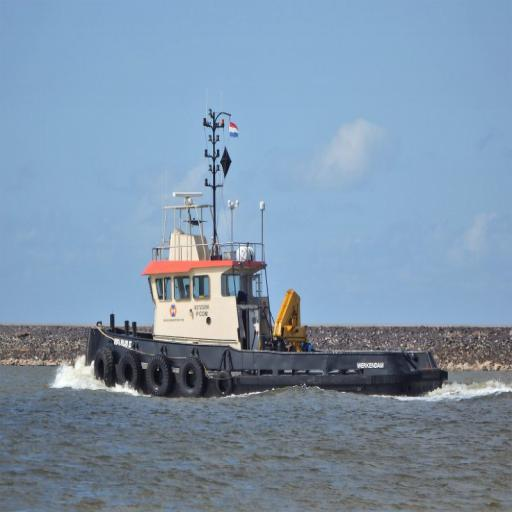tugboat: (83, 105, 453, 406)
